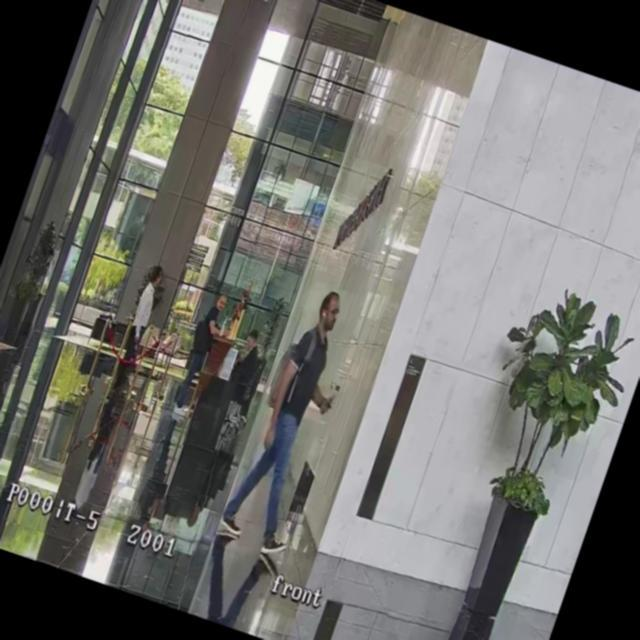person: (214, 280, 368, 558), (168, 288, 234, 418), (107, 263, 168, 397), (231, 327, 267, 388)
